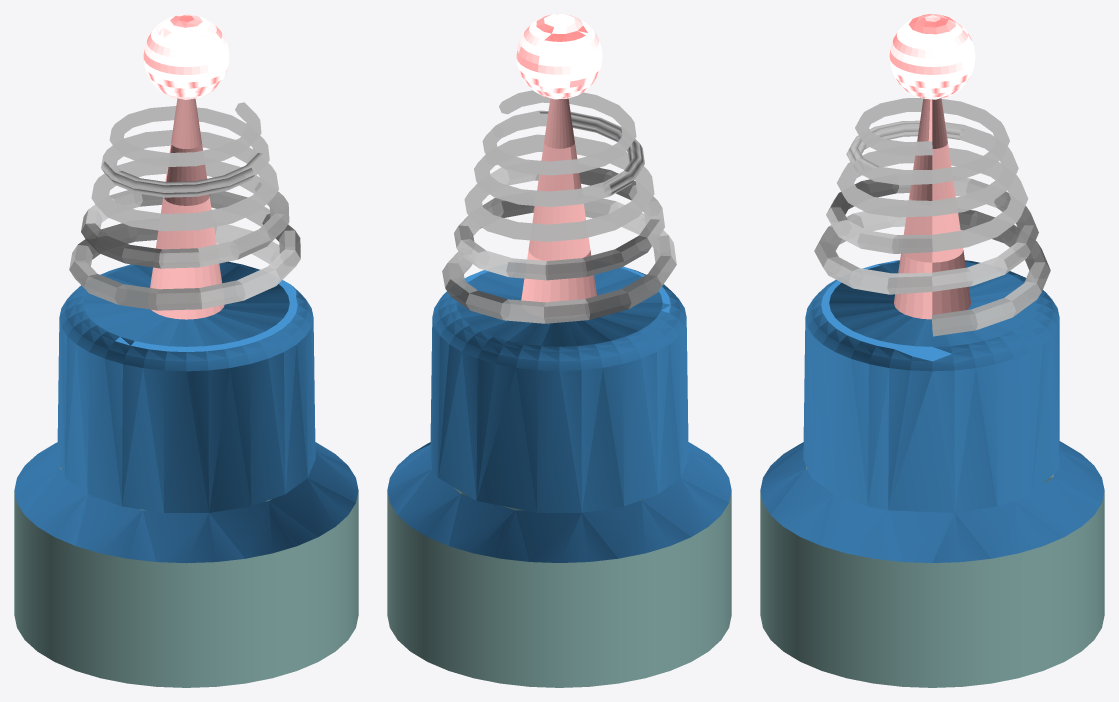
Rendered from TurretElec.FBX.
3 views of the same model, side by side, from view 1: azimuth 30°, elevation 25°; view 2: azimuth 150°, elevation 25°; view 3: azimuth 270°, elevation 25° (orthographic).
Parts seen in each view (by area): view 1: paotai, stage; view 2: paotai, stage; view 3: paotai, stage.
Boxes of the visible parts, x1,y1,x2,y2 form: paotai: (57, 14, 315, 512); stage: (14, 442, 358, 687); paotai: (430, 14, 688, 512); stage: (387, 442, 731, 687); paotai: (803, 14, 1059, 512); stage: (760, 441, 1104, 687).
Bounding box in the file's own units: 800 × 1531 × 800.
